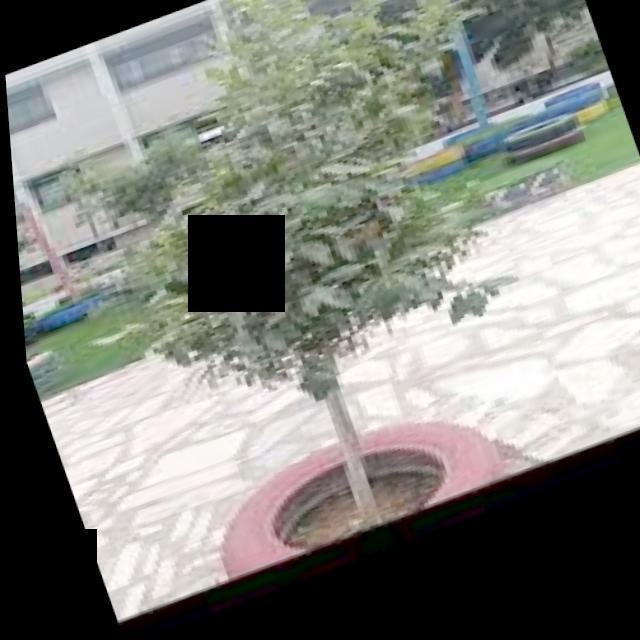tree: (54, 0, 606, 576), (402, 0, 606, 129), (6, 100, 50, 302)
